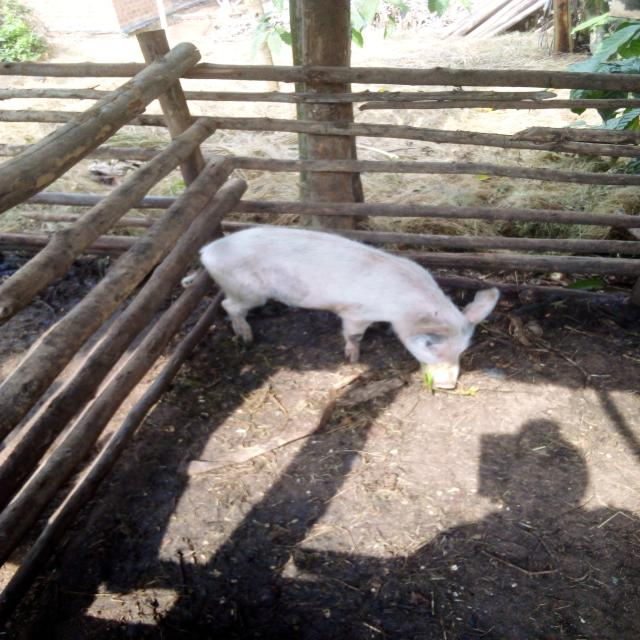pig: (147, 183, 545, 444)
